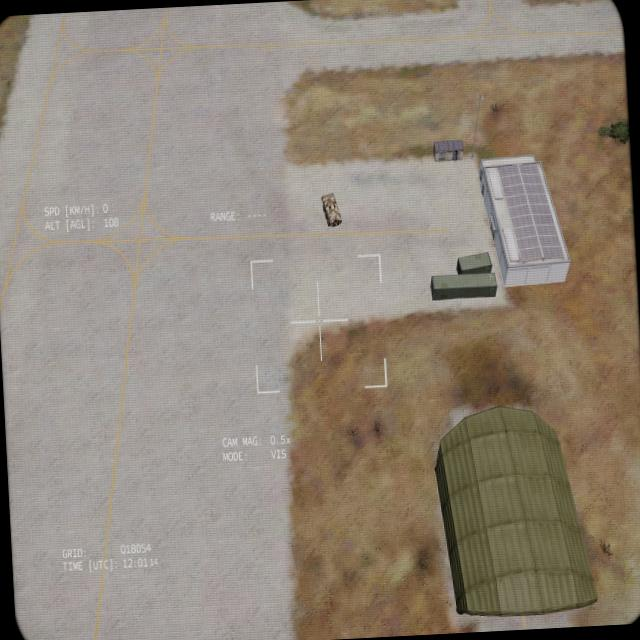apc: (320, 190, 341, 230)
